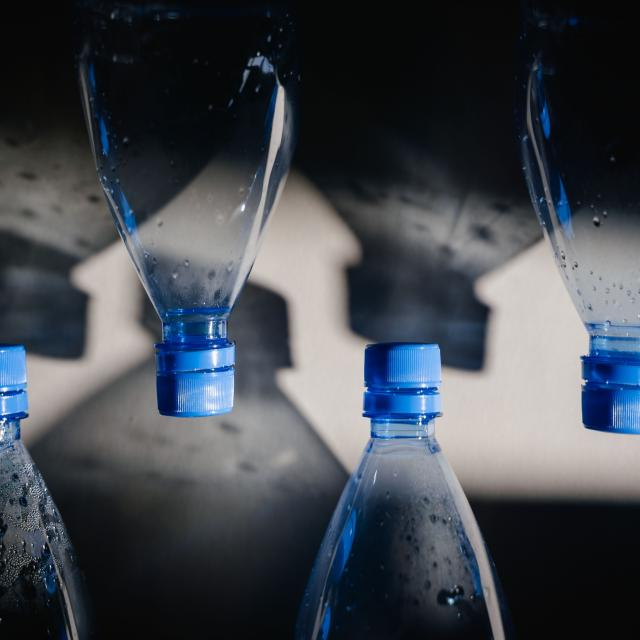Bottle: (77, 0, 299, 416), (296, 344, 512, 639), (516, 0, 639, 433), (0, 345, 97, 639)
